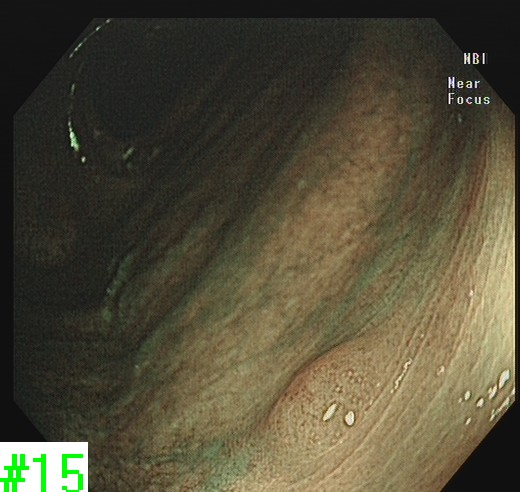adenoma: (262, 333, 384, 447)
